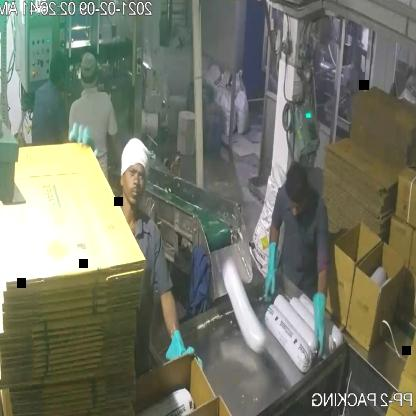glove: (158, 325, 209, 384), (255, 233, 290, 318), (307, 282, 331, 366)
